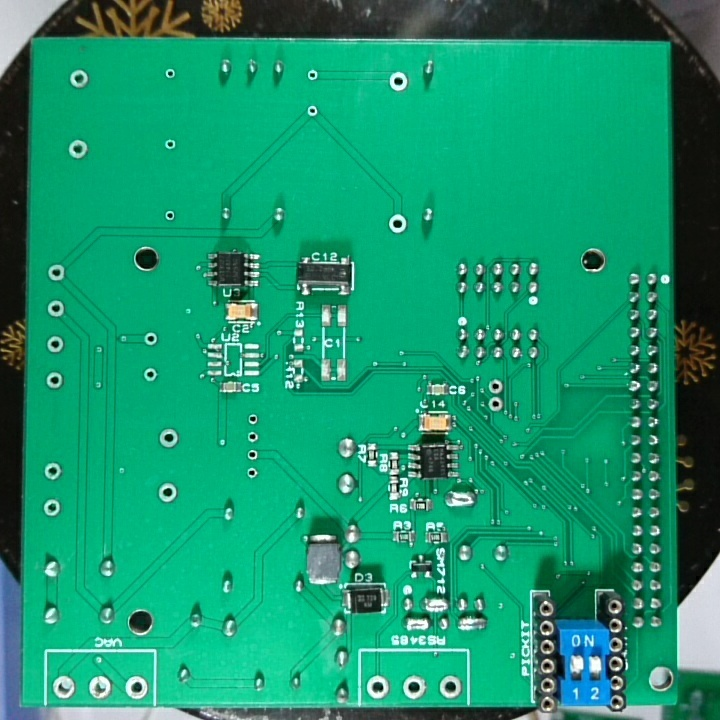F: (400, 671, 430, 703), (365, 672, 394, 703), (86, 672, 114, 703), (122, 673, 150, 702), (154, 479, 182, 506), (50, 674, 77, 702), (437, 672, 463, 700), (385, 69, 411, 95), (44, 260, 69, 286), (43, 296, 69, 321), (66, 67, 91, 92), (44, 332, 68, 358), (65, 138, 91, 161), (157, 426, 180, 452), (42, 369, 67, 392), (41, 460, 65, 483), (41, 497, 64, 519), (387, 212, 408, 235), (141, 327, 160, 349), (486, 394, 505, 415), (303, 101, 322, 121), (139, 365, 159, 384), (244, 409, 262, 429), (162, 135, 180, 154), (486, 378, 506, 395), (244, 446, 262, 464), (245, 428, 262, 446), (242, 463, 260, 480), (162, 66, 181, 82), (304, 67, 320, 84), (162, 207, 177, 224)
P: (442, 487, 477, 509), (454, 613, 488, 633), (420, 595, 451, 613), (402, 615, 431, 634)
